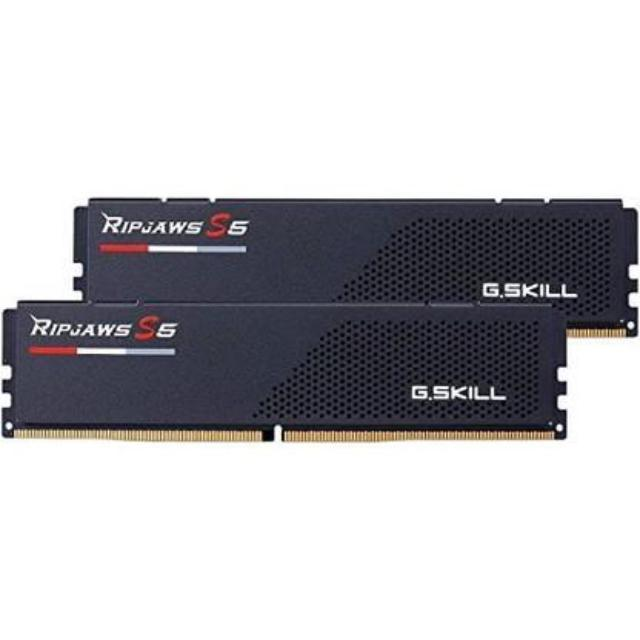RAM: (0, 186, 640, 446)
